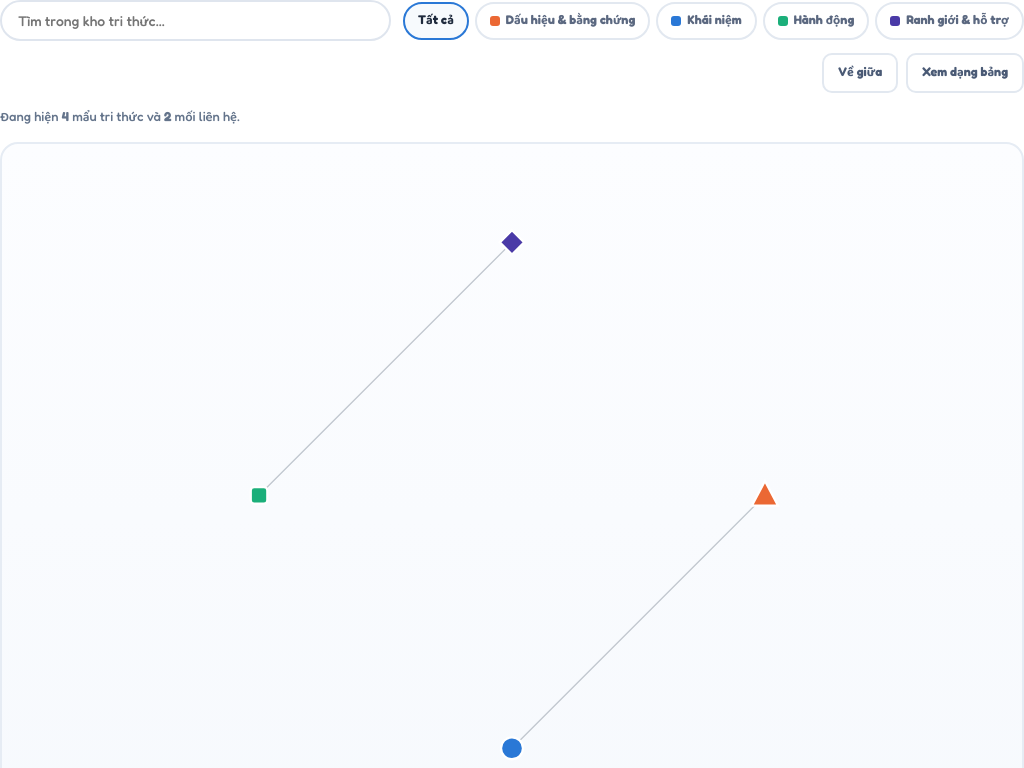
Scenario: chế độ bảng liệt kê đủ mọi mẩu bằng chữ
Click the button "Xem dạng bảng": [965, 73] box [906, 53, 1023, 93]
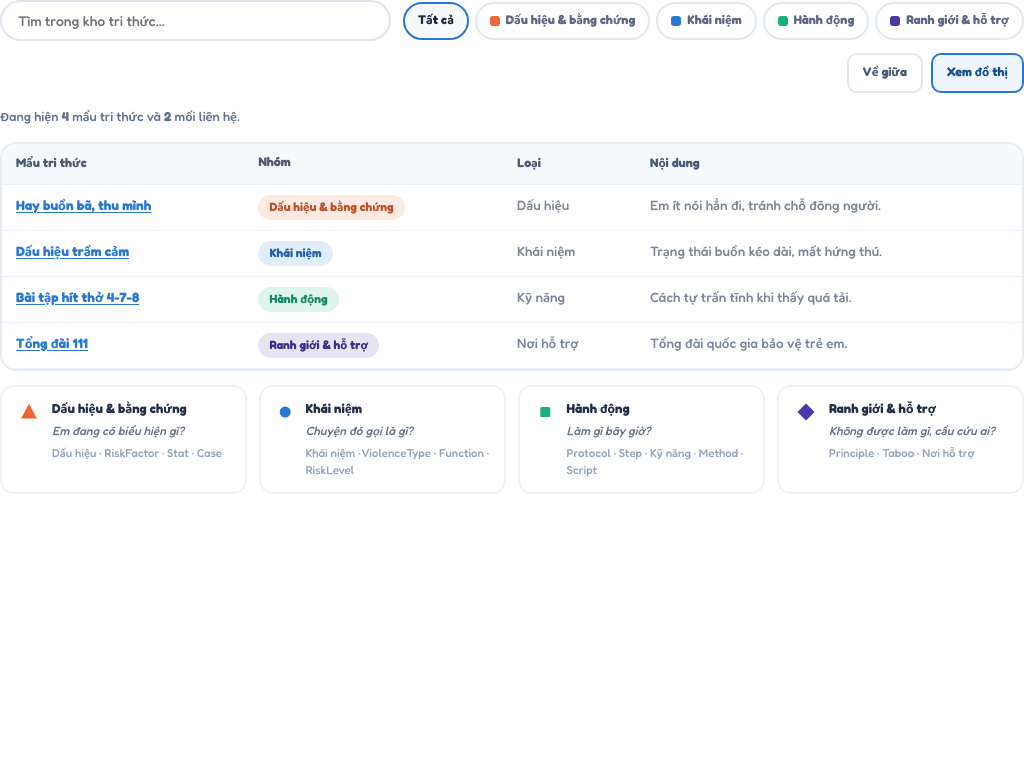
Expected: the button "Ranh giới & hỗ trợ" is shown, [875, 2, 1023, 40]
Expected: the button "Tổng đài 111" is shown, [16, 333, 88, 355]
